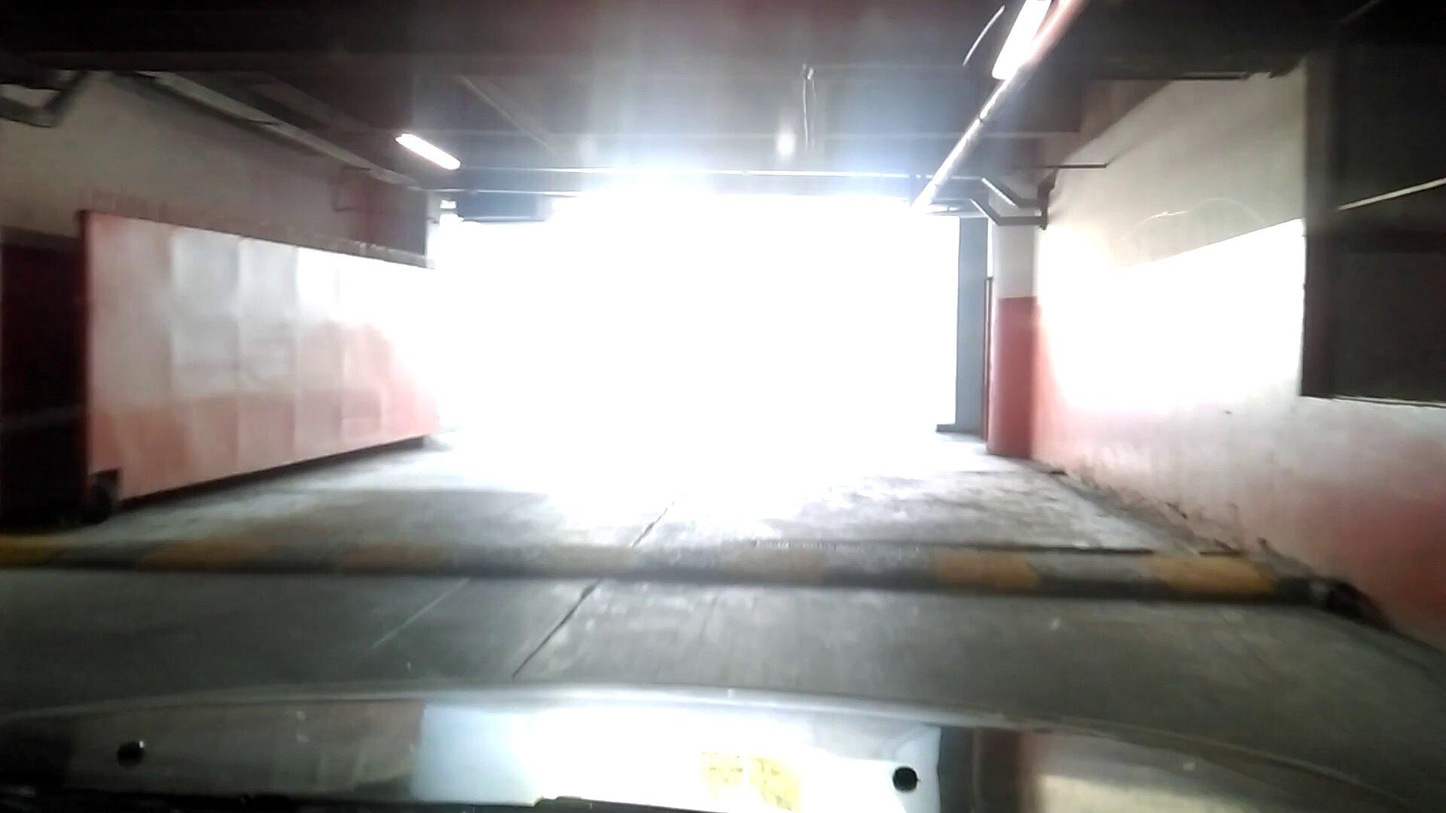Bump: (0, 531, 1320, 623)
